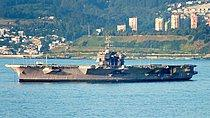MIL_Ship: (5, 34, 199, 82)
